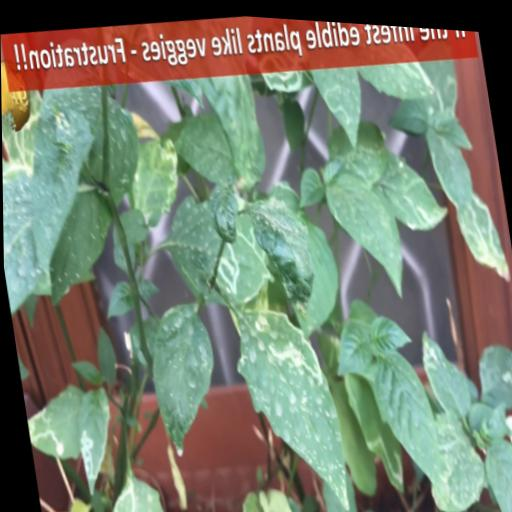Leaf_Miner: (225, 295, 352, 512), (245, 183, 321, 323), (340, 362, 406, 492), (2, 152, 54, 317), (203, 203, 274, 303), (20, 376, 93, 466), (377, 140, 448, 230), (123, 131, 188, 229), (415, 315, 479, 414), (450, 179, 510, 281), (68, 381, 120, 496), (308, 57, 368, 150), (472, 330, 512, 406), (104, 467, 168, 512), (500, 401, 512, 494)
